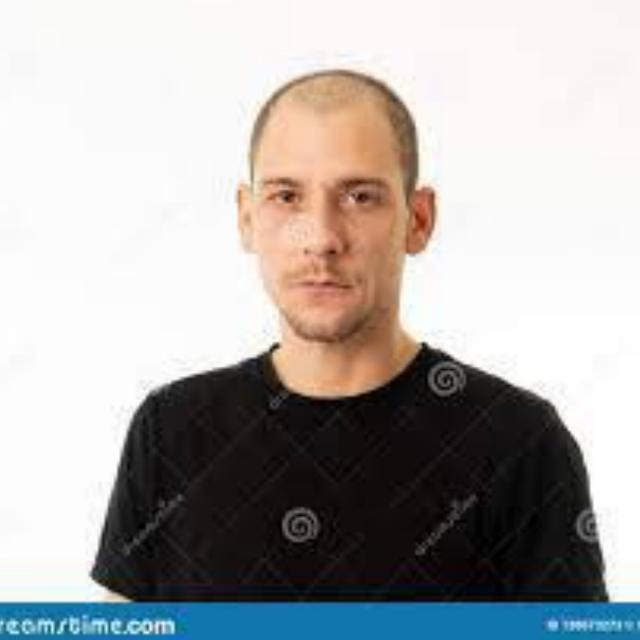Natural: (229, 64, 458, 379)
